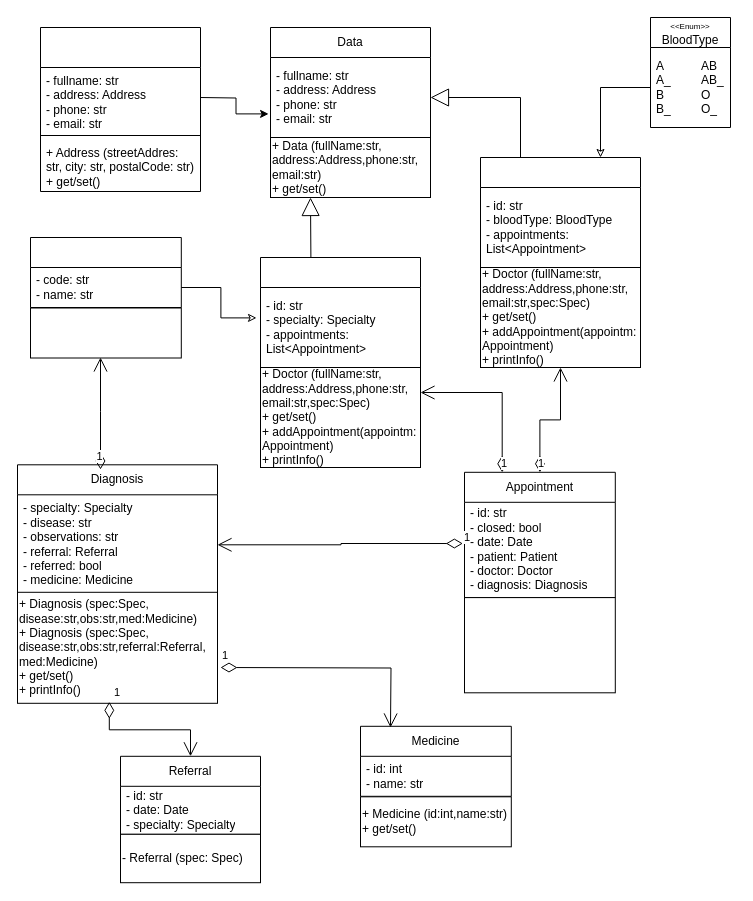
The diagram is 753 pixels wide and 901 high, and some of its shapes have lost their labels. The box of each missing label's shape, as (x1, y1, x2, y2) in pixels:
+ Appointment (date:Date, patient:Patient ) + get/set() + printInfo(): (464, 597, 615, 693)
+ Specialty (code:str, name:str) + get/set(): (30, 307, 181, 358)
<<Embeddable>> Address: (40, 26, 200, 192)
Doctor: (260, 256, 420, 368)
Patient: (480, 156, 640, 268)
Specialty: (30, 236, 181, 308)
